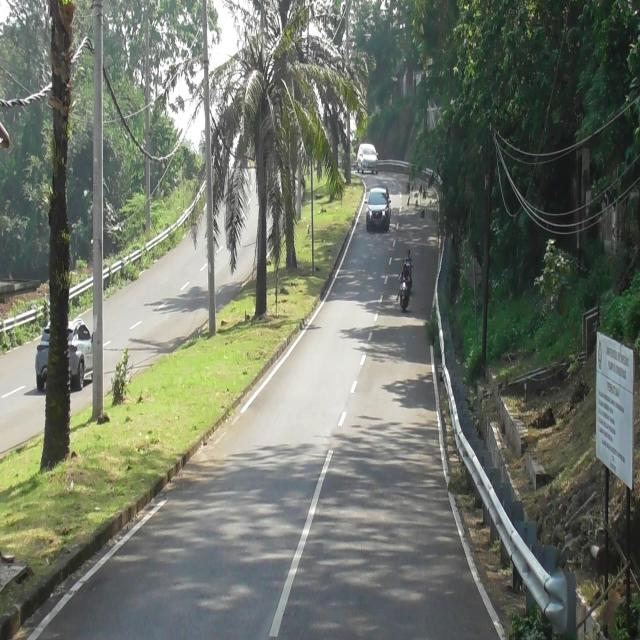motorcycle: (400, 278, 410, 312)
person: (400, 263, 410, 280), (406, 250, 412, 266)
rider_region: (399, 263, 410, 312)
